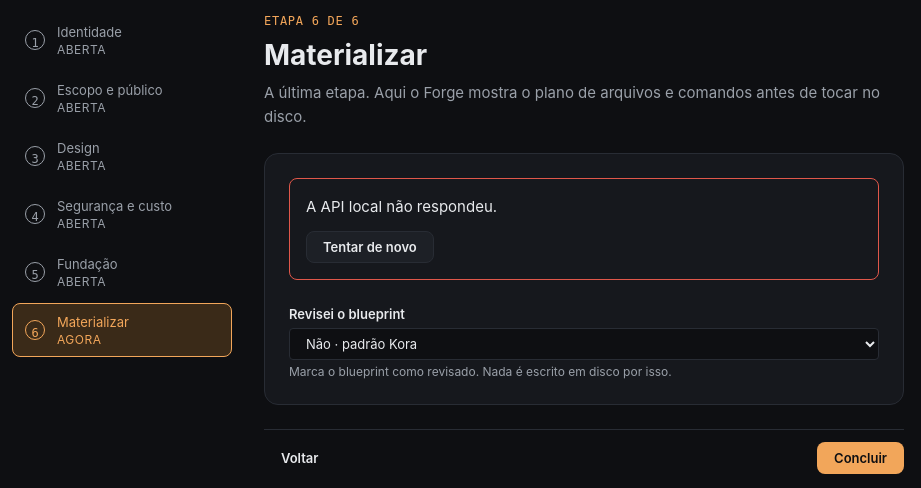
Test: plano na etapa Materializar › erro genérico oferece tentar de novo
This screenshot has width=921, height=488.
(page scrolled)
Expected: the message shows "A API local não respondeu.", x1=306 y1=197 x2=497 y2=216
Click the button "Tentar de novo".
click(370, 247)  # box x1=306 y1=231 x2=434 y2=263
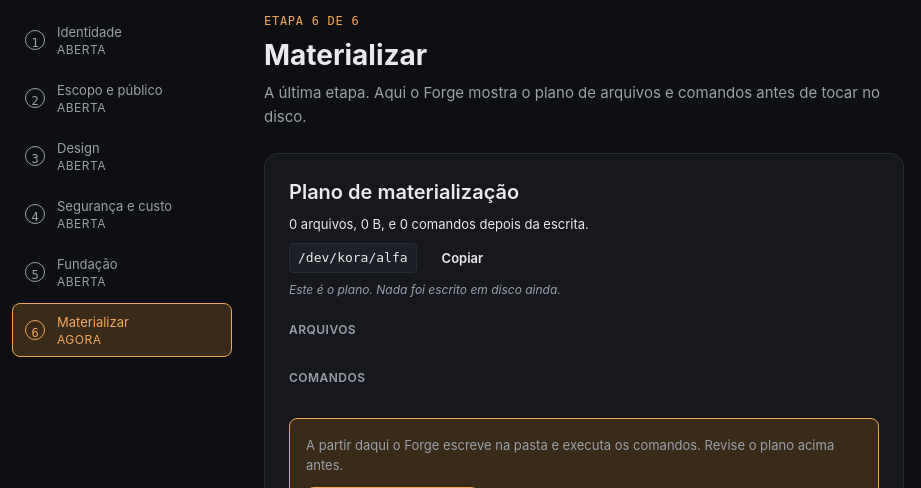
Expected: the text "/dev/kora/alfa" is shown, x1=289 y1=243 x2=417 y2=273
